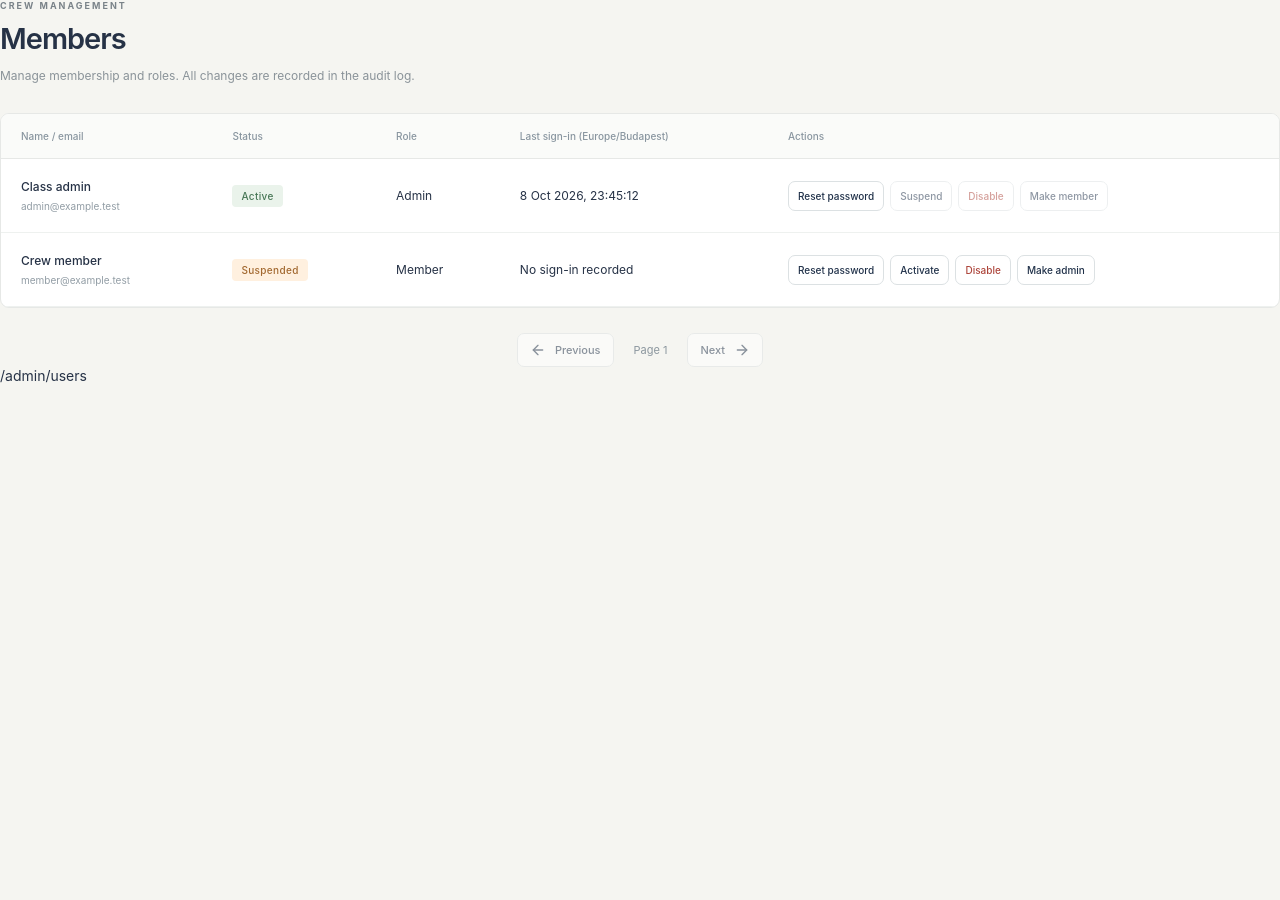
it: Admin member credentials and sign-in history › shows API failure, clears credentials, and allows a deliberate new attempt
The width and height of the screenshot is (1280, 900).
Step 1. Click the button "Reset password" in the row of "Crew member" → click(836, 270), box [788,255,884,285]
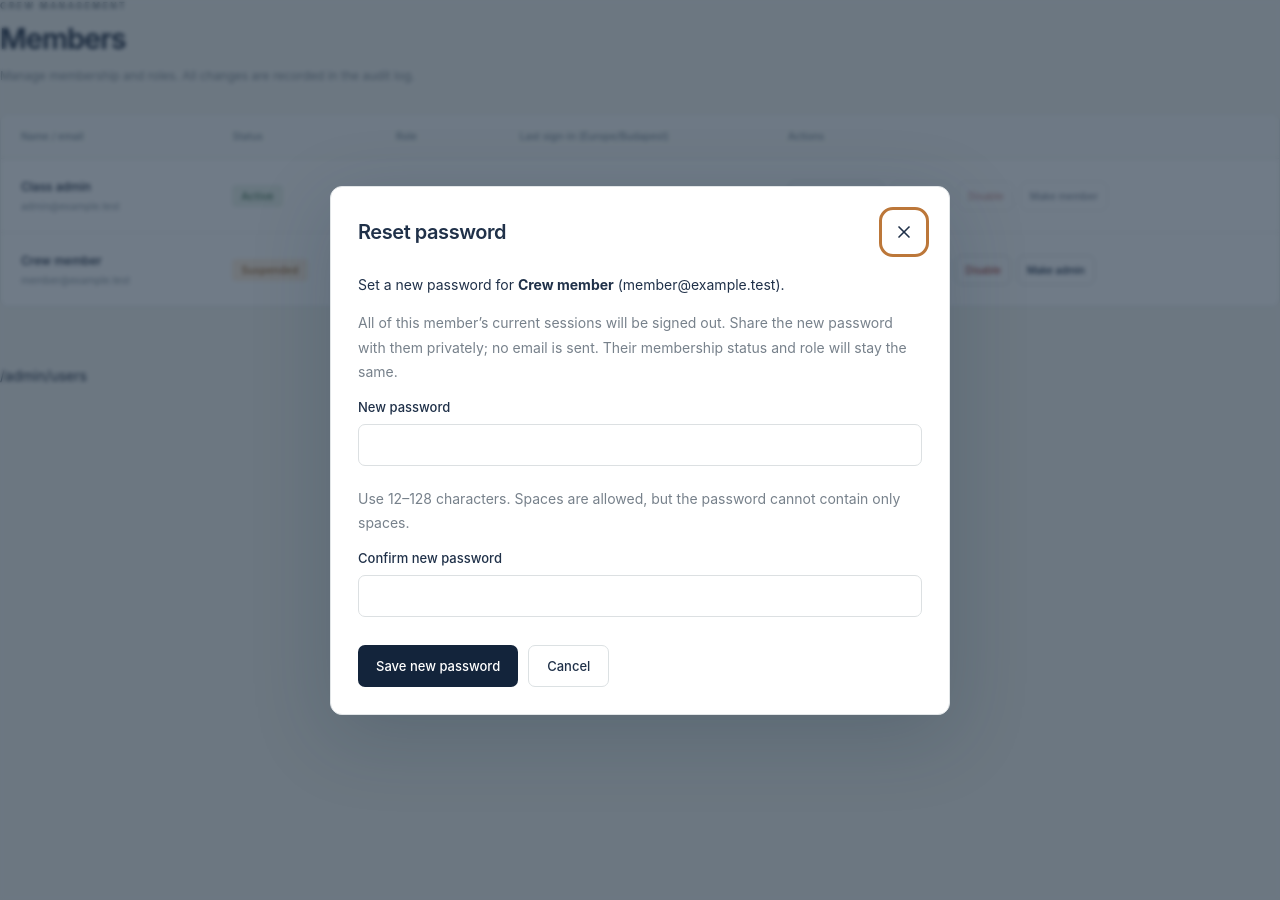
Step 2. Type "Test-only-new-password" into the password field labelled "New password" → (640, 444), box [358,424,922,466]
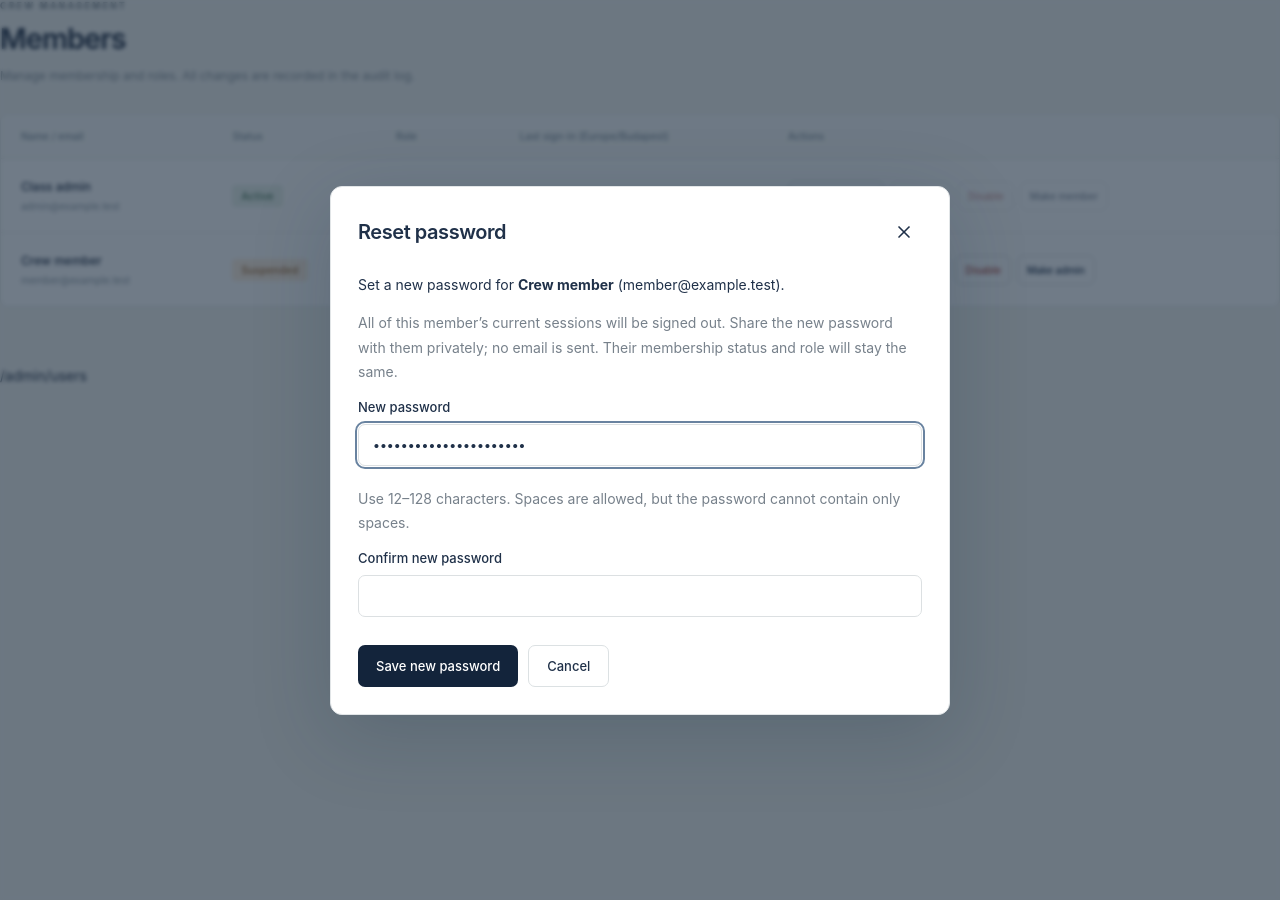
Step 3. Type "Test-only-new-password" into the password field labelled "Confirm new password" → (640, 596), box [358,574,922,616]
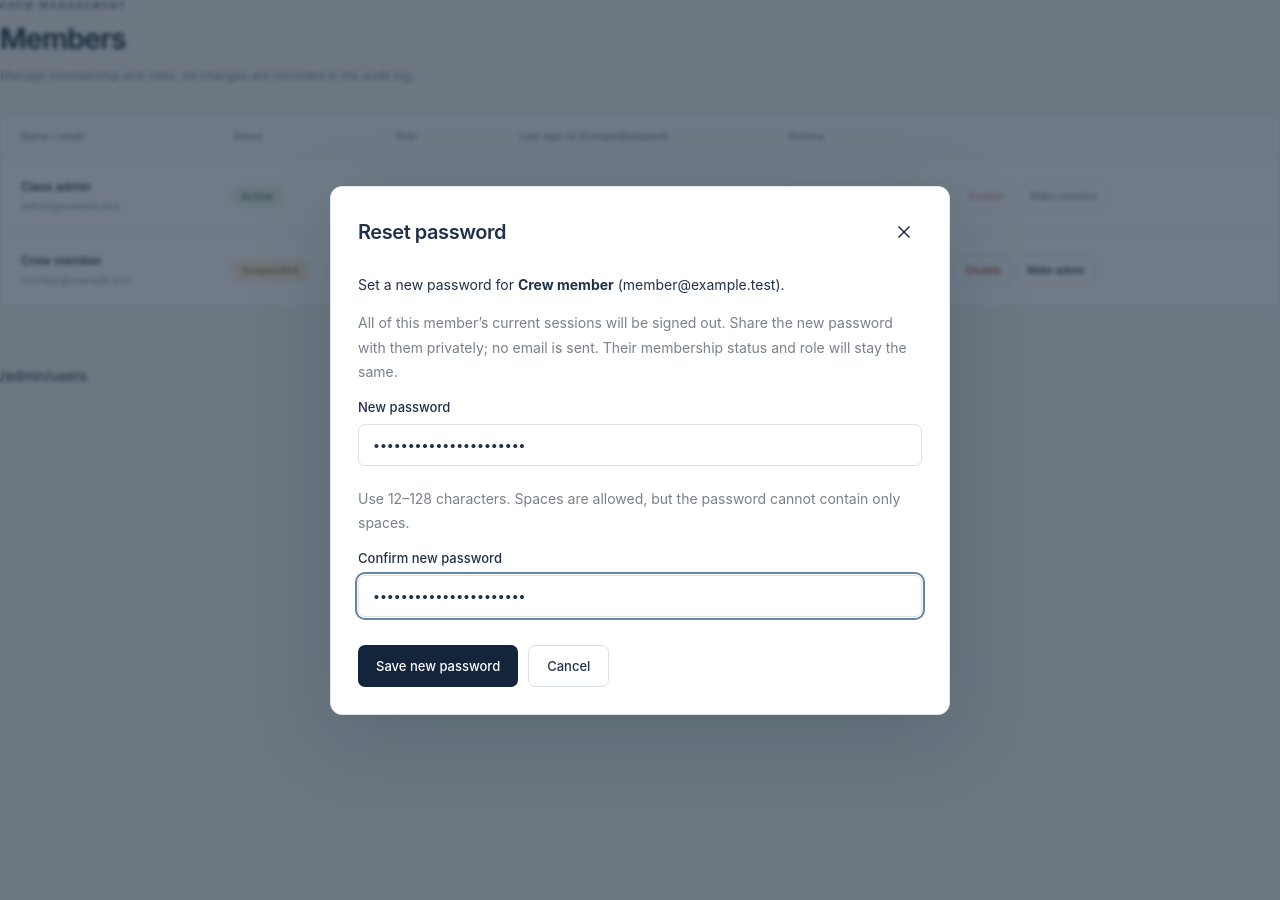
Step 4. Click the button "Save new password" → click(438, 666), box [358,644,518,686]
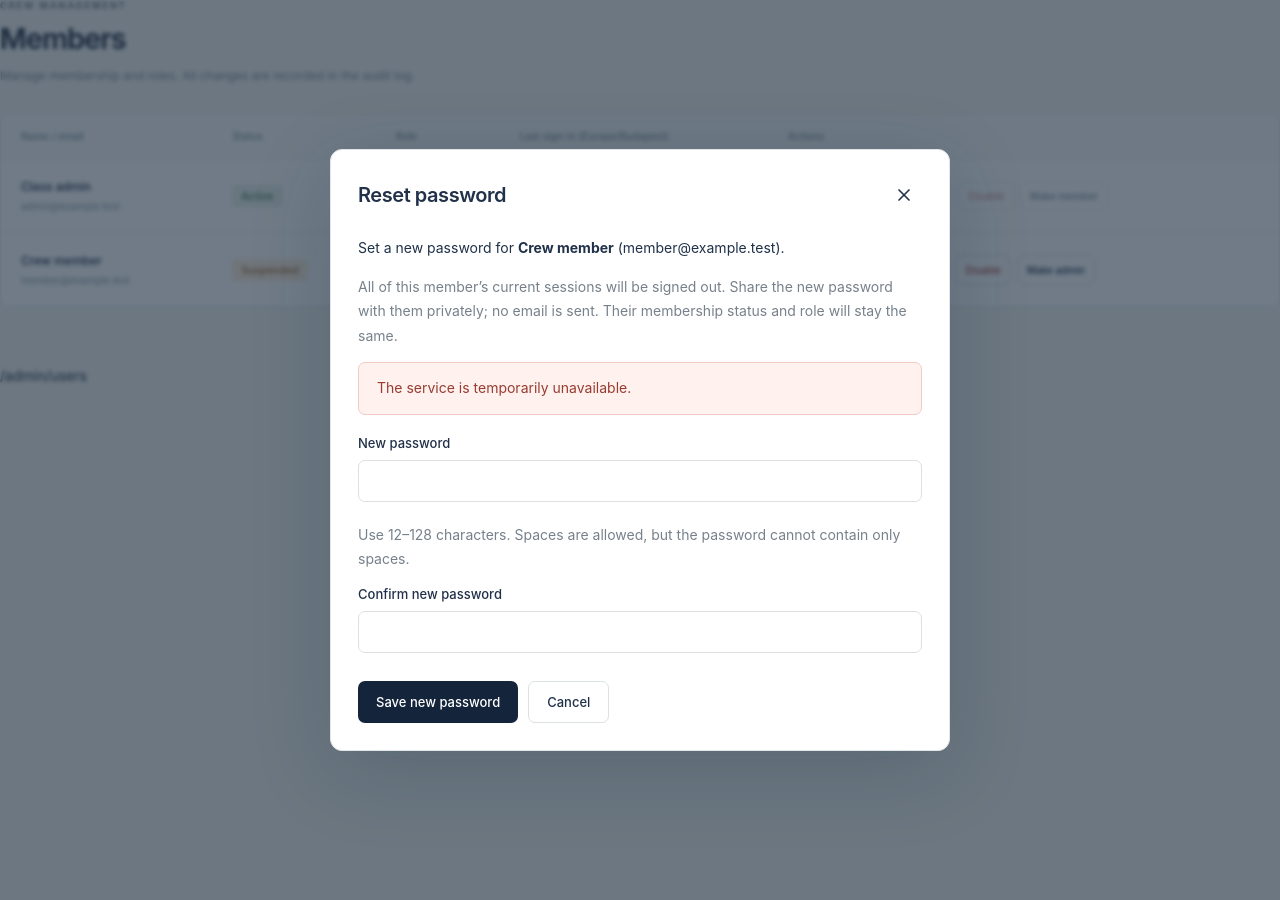
Check: the button "Save new password" is enabled, box [358,681,518,723]
Check: the message reads "The service is temporarily unavailable.", box [377,379,631,396]
Check: the password field labelled "New password" is empty, box [358,460,922,502]
